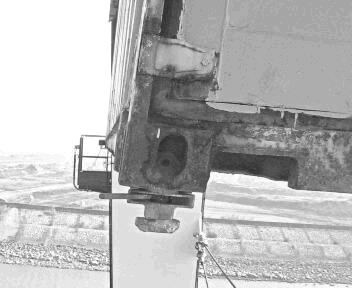twist_lock_1: (116, 184, 202, 240)
